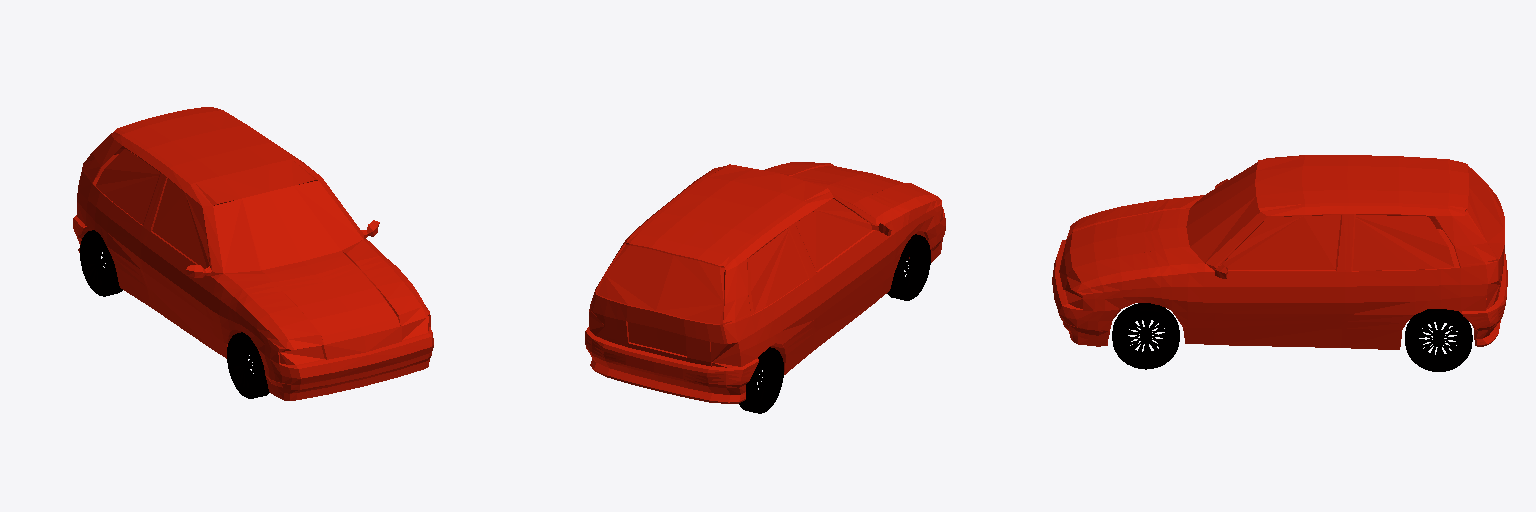
File: simple_car.obj
3 views of the same model, side by side, from view 1: azimuth 30°, elevation 25°; view 2: azimuth 150°, elevation 25°; view 3: azimuth 270°, elevation 25° (orthographic).
Parts seen in each view (by area): view 1: FinestriniAnt_Plane.004, wheel_RF_FinestriniAnt_Plane.003, wheel_RR_FinestriniAnt_Plane.002; view 2: FinestriniAnt_Plane.004, wheel_RF_FinestriniAnt_Plane.003, wheel_RR_FinestriniAnt_Plane.002; view 3: FinestriniAnt_Plane.004, wheel_LF_FinestriniAnt_Plane.000, wheel_LR_FinestriniAnt_Plane.001.
Boxes of the visible parts, x1=… form: FinestriniAnt_Plane.004: x1=73, y1=107, x2=433, y2=400; wheel_RF_FinestriniAnt_Plane.003: x1=227, y1=332, x2=269, y2=398; wheel_RR_FinestriniAnt_Plane.002: x1=80, y1=230, x2=122, y2=296; FinestriniAnt_Plane.004: x1=585, y1=162, x2=945, y2=403; wheel_RF_FinestriniAnt_Plane.003: x1=887, y1=234, x2=930, y2=300; wheel_RR_FinestriniAnt_Plane.002: x1=739, y1=347, x2=783, y2=413; FinestriniAnt_Plane.004: x1=1052, y1=155, x2=1507, y2=349; wheel_LF_FinestriniAnt_Plane.000: x1=1112, y1=303, x2=1179, y2=369; wheel_LR_FinestriniAnt_Plane.001: x1=1405, y1=309, x2=1472, y2=371.
Bounding box in the file's own units: 2.43 × 1.87 × 4.95.